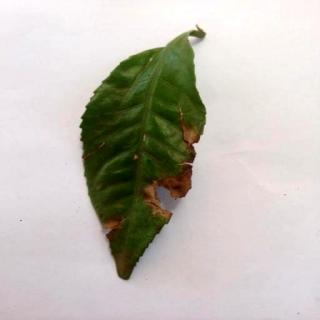Algal Leaf: (80, 28, 210, 283)
